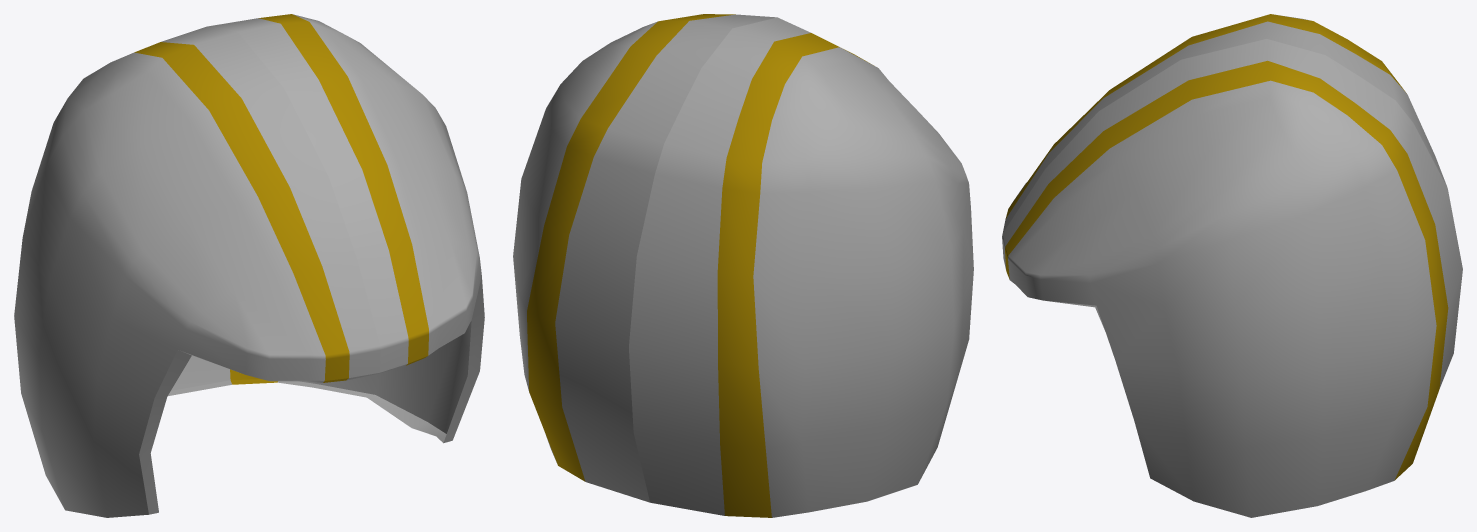
The model's file is footballhelmet_01.fbx.
3 renders of one model, left to right at view 1: azimuth 30°, elevation 25°; view 2: azimuth 150°, elevation 25°; view 3: azimuth 270°, elevation 25°, orthographic. The views are drawn at different scales.
Visible parts, largest first — view 1: mesh_football_helmet_01; view 2: mesh_football_helmet_01; view 3: mesh_football_helmet_01.
Boxes of the visible parts, x1,y1,x2,y2 form: mesh_football_helmet_01: (14, 14, 484, 517); mesh_football_helmet_01: (513, 14, 973, 517); mesh_football_helmet_01: (1002, 14, 1462, 517).
Bounding box in the file's own units: 1318 × 1276 × 1331.
